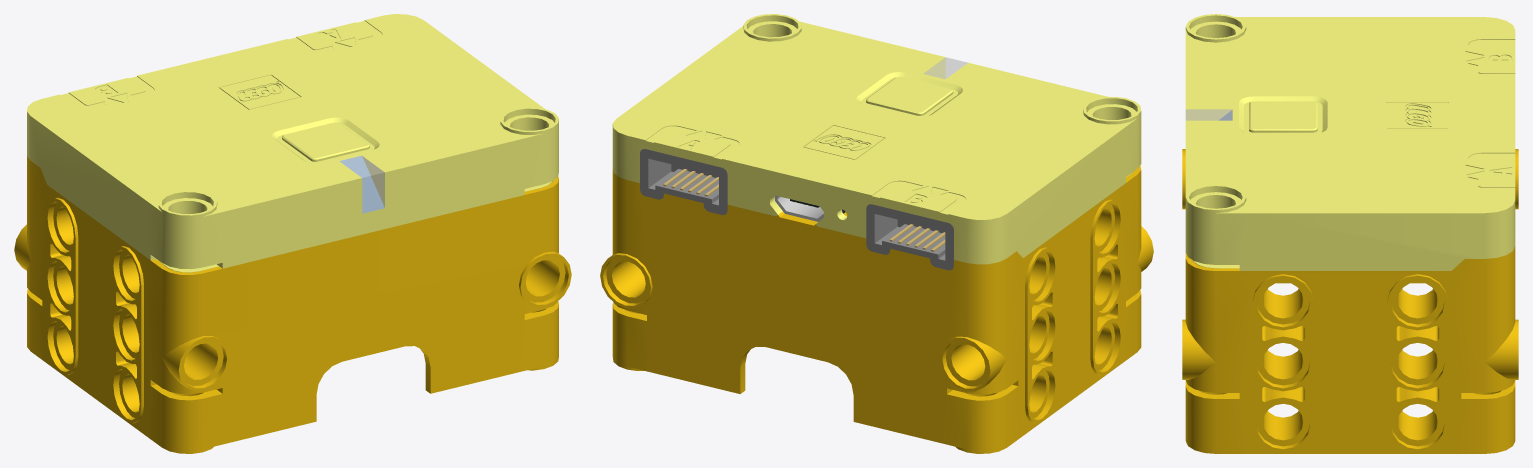
The picture shows the model from 3 angles, left to right: view 1: azimuth 30°, elevation 25°; view 2: azimuth 150°, elevation 25°; view 3: azimuth 270°, elevation 25°; orthographic projection. The views are drawn at different scales.
Parts seen in each view (by area): view 1: u9539.dat, u9538.dat, 99146.dat; view 2: u9539.dat, u9538.dat, 23807.dat (×2), 99146.dat, u9401.dat; view 3: u9538.dat, u9539.dat, 99146.dat.
Boxes of the visible parts, bbox=[...] form: u9539.dat: bbox=[14, 156, 571, 453]; u9538.dat: bbox=[27, 14, 558, 272]; 99146.dat: bbox=[282, 122, 369, 161]; u9539.dat: bbox=[600, 165, 1153, 453]; u9538.dat: bbox=[612, 14, 1141, 264]; 23807.dat (×2): bbox=[640, 149, 953, 270]; 99146.dat: bbox=[866, 77, 953, 115]; u9401.dat: bbox=[775, 195, 845, 221]; u9538.dat: bbox=[1185, 14, 1515, 270]; u9539.dat: bbox=[1182, 149, 1518, 453]; 99146.dat: bbox=[1249, 101, 1317, 132].
Bounding box in the file's own units: 0.056 × 0.032 × 0.04.
